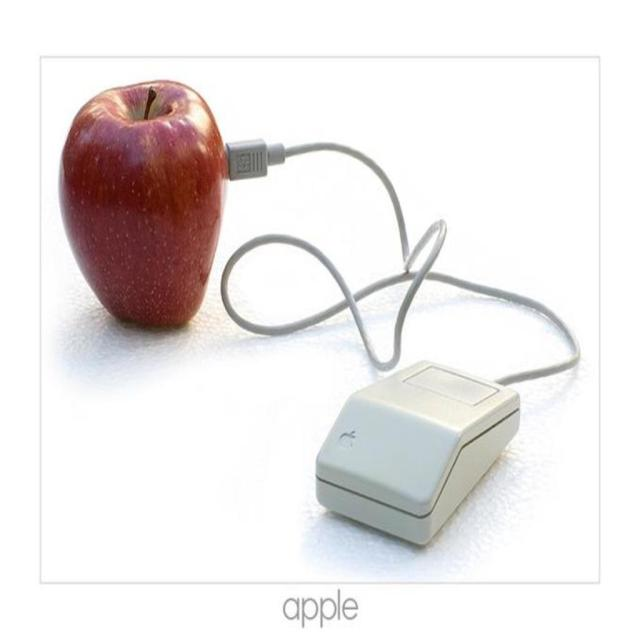Healty Apple: (53, 70, 232, 330)
